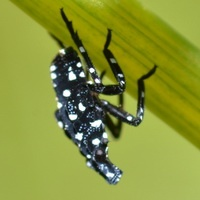insect: (50, 8, 156, 183)
